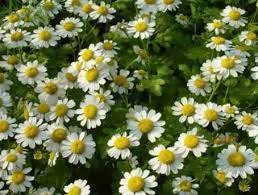chamomile: (214, 150, 249, 176), (152, 146, 182, 172), (220, 7, 249, 29), (123, 173, 153, 194), (131, 116, 161, 137), (214, 55, 241, 78), (58, 65, 85, 88), (44, 126, 70, 149), (17, 122, 44, 144), (69, 131, 88, 161), (6, 170, 33, 191), (127, 18, 156, 37), (197, 107, 221, 129), (50, 100, 74, 122), (79, 100, 99, 126), (106, 73, 133, 92), (42, 76, 62, 101), (106, 138, 133, 156), (78, 69, 103, 88), (174, 99, 197, 119), (176, 133, 200, 152), (91, 5, 116, 22), (188, 77, 213, 94), (202, 63, 224, 82), (0, 154, 26, 170), (18, 65, 43, 81), (204, 20, 228, 36), (56, 21, 83, 35), (4, 32, 29, 47), (32, 29, 56, 44), (176, 180, 199, 195), (31, 104, 51, 121), (93, 41, 119, 54), (156, 0, 182, 12), (137, 1, 161, 13), (66, 0, 88, 13), (95, 91, 110, 110), (0, 115, 11, 140), (209, 38, 230, 50), (90, 56, 111, 68), (67, 183, 87, 195), (240, 116, 254, 132), (223, 106, 239, 117), (79, 6, 96, 16)
